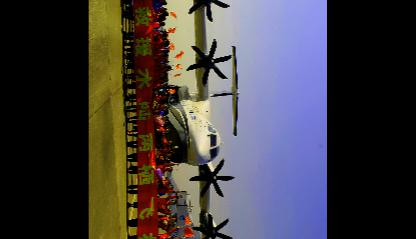AG600: (133, 0, 241, 237)
